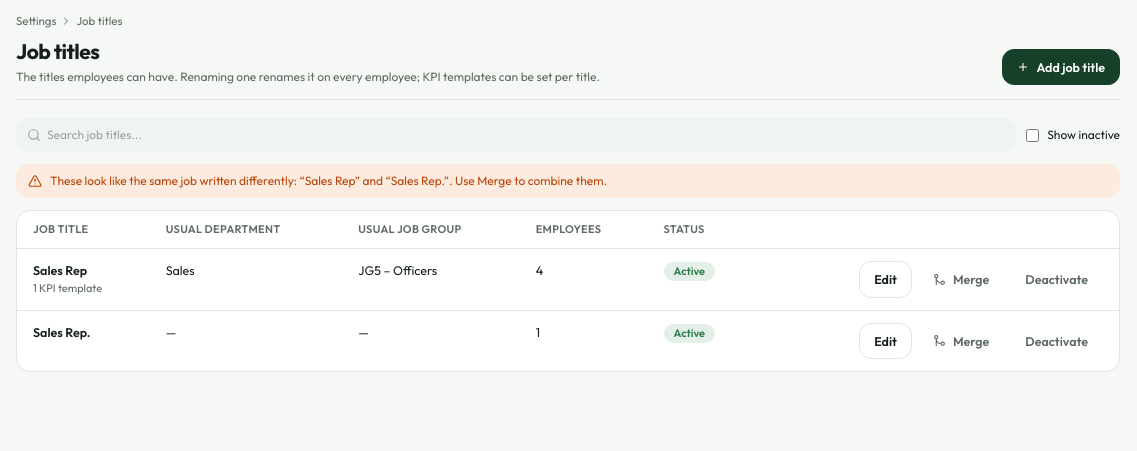
Scenario: Job titles page › lists active titles with their usual department, job group and employees; inactive on request
Expected: the text "Sales" is shown, x1=150 y1=248 x2=342 y2=310
Expected: the text "JG5 – Officers" is shown, x1=342 y1=248 x2=520 y2=310
Click the checkbox labelled "Show inactive".
click(1033, 135)  # box x1=1026 y1=129 x2=1039 y2=142
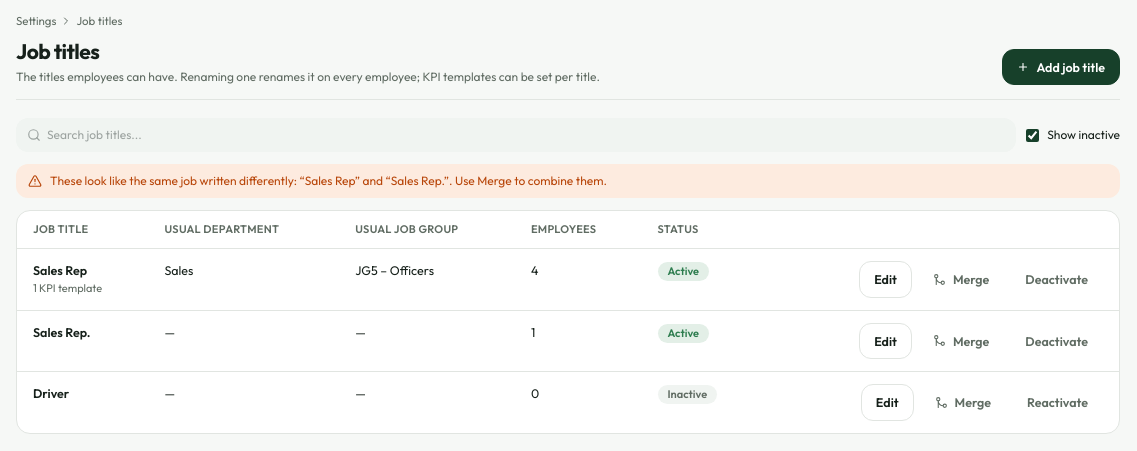
Result: the text "Driver" is shown at x1=33 y1=385 x2=69 y2=401
